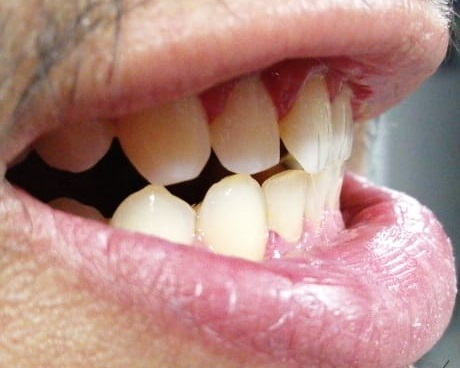boca: (46, 81, 349, 277)
